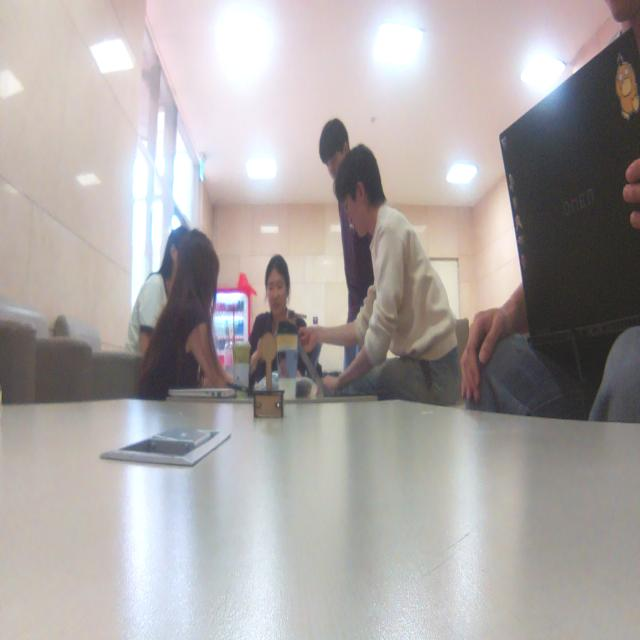target: (253, 332, 285, 420)
